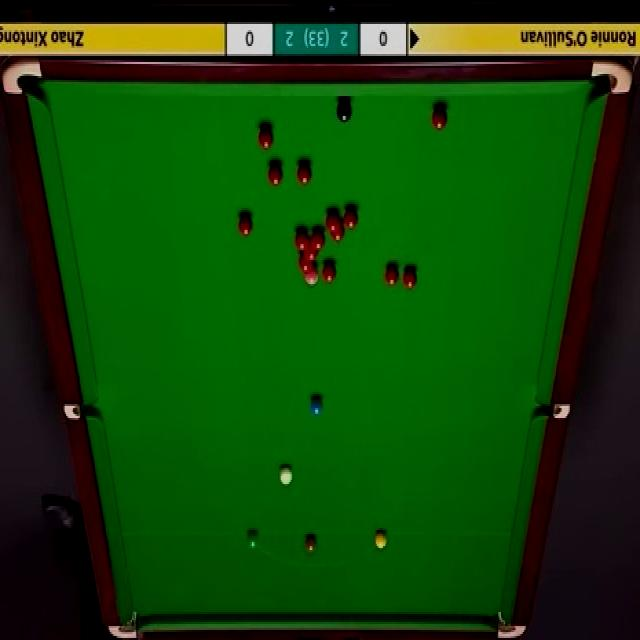black-ball: (336, 102, 354, 125)
blue-ball: (310, 398, 324, 415)
brown-ball: (305, 534, 316, 552)
green-ball: (245, 530, 260, 552)
pink-ball: (306, 270, 322, 284)
red-ball: (432, 102, 448, 130), (238, 213, 254, 240), (403, 266, 419, 290), (310, 228, 326, 251), (324, 212, 340, 235), (261, 126, 275, 151), (296, 159, 310, 183), (384, 264, 398, 287), (270, 166, 284, 187), (343, 208, 358, 227), (296, 234, 310, 254), (306, 244, 320, 262), (323, 263, 335, 284), (299, 255, 313, 272)
white-ball: (278, 464, 294, 486)
yellow-ball: (375, 530, 387, 550)
